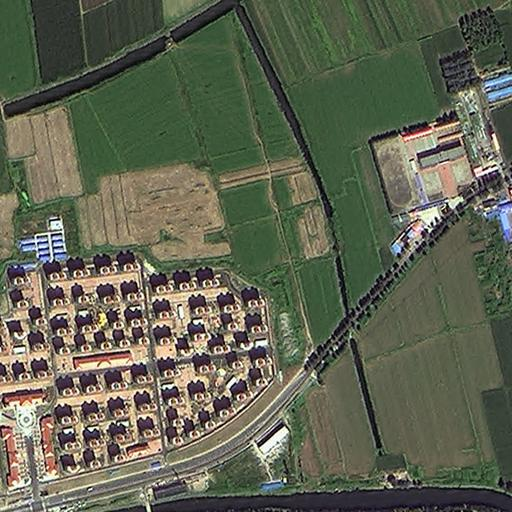school: (367, 113, 479, 214)
